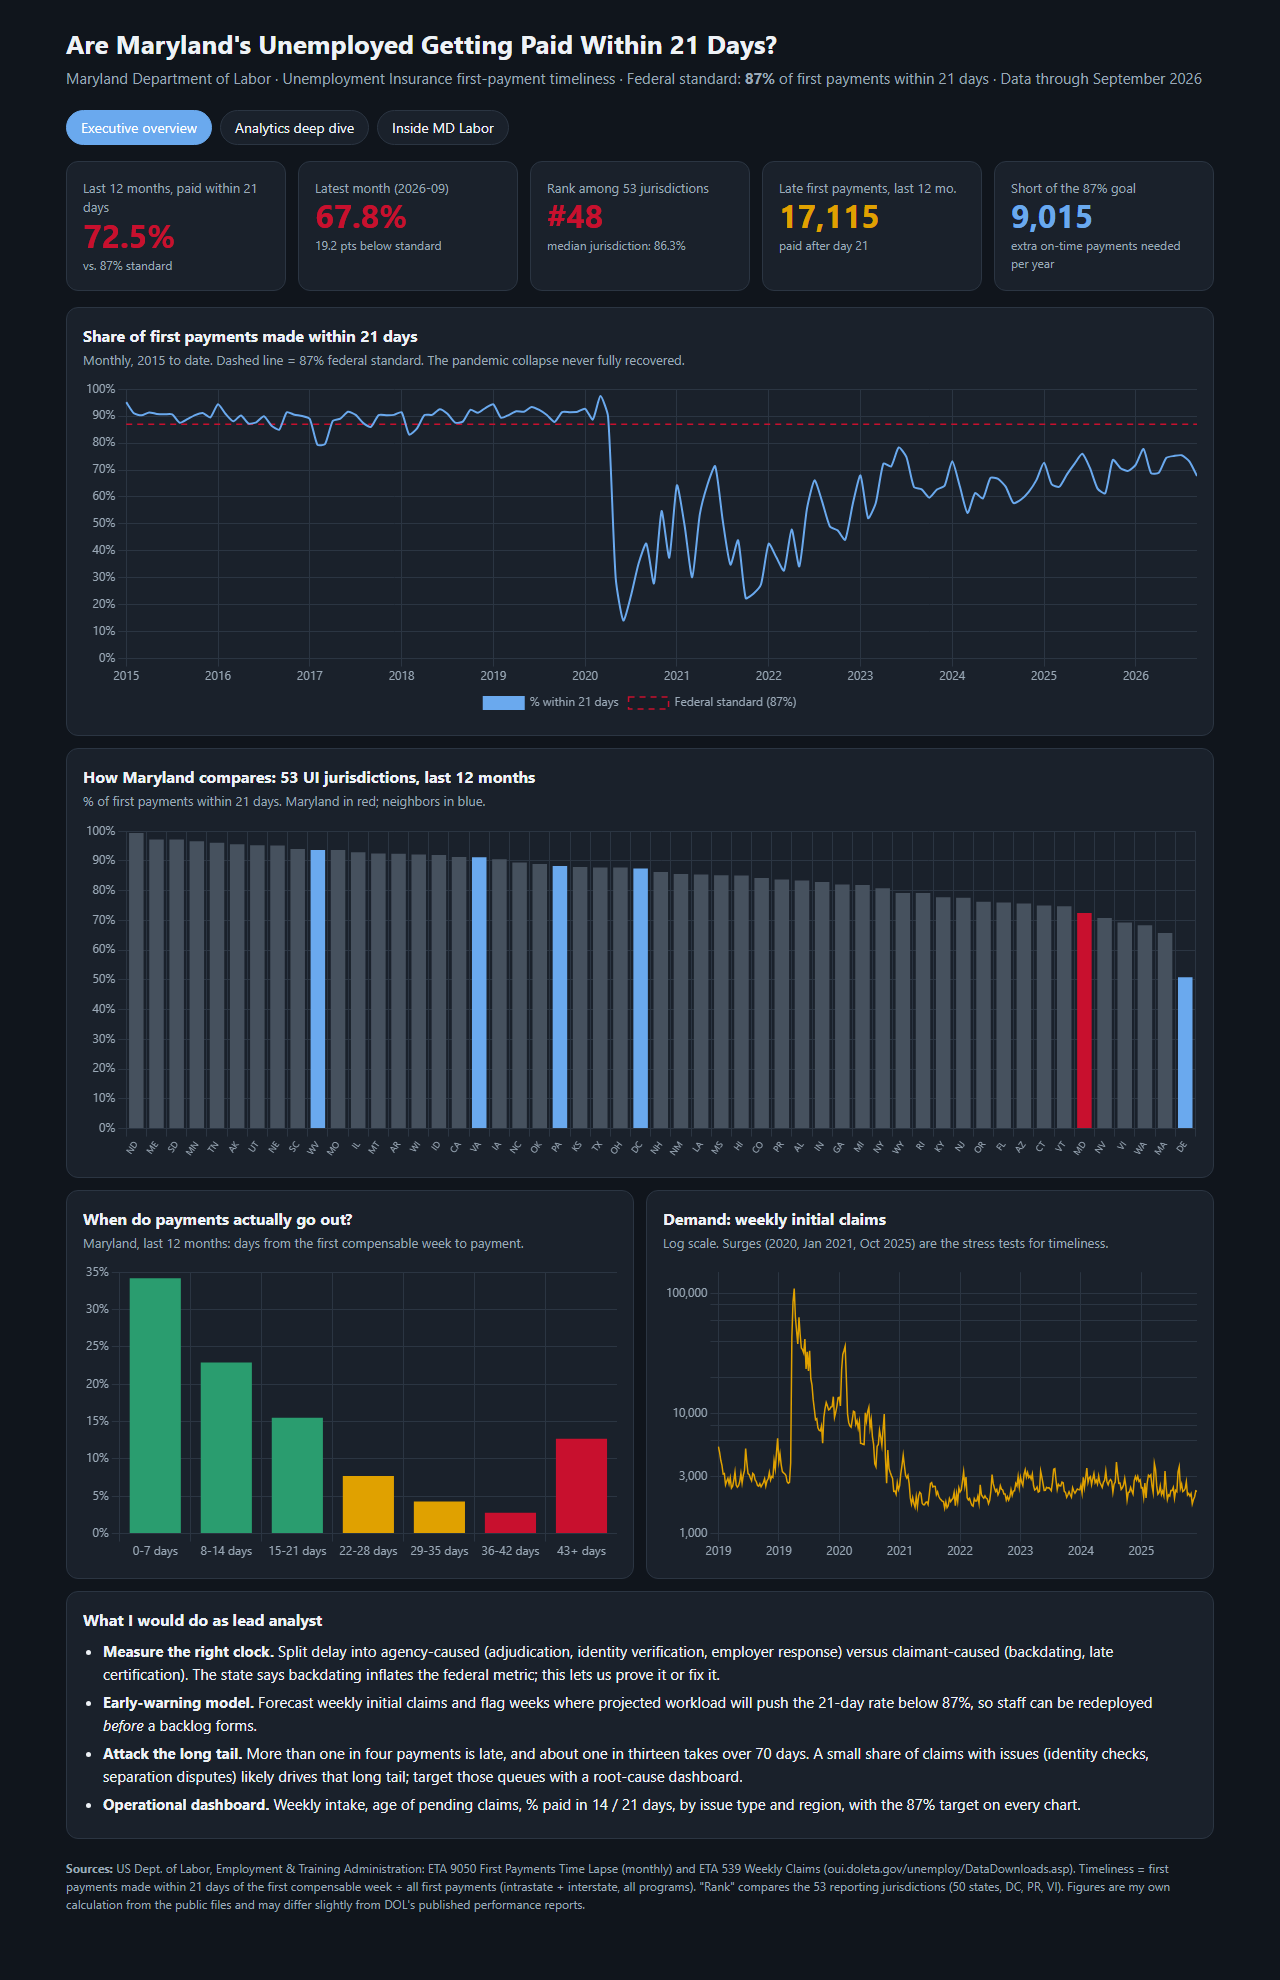

The dashboard page shown, as its layout file describes it:
{"tool":"powerbi","page":{"name":"Executive overview","canvas":[1280,720],"ordinal":0},"visuals":[{"type":"card","title":"On-time rate, last 12 months","fields":{"Values":["Timeliness.On-Time % 12M"]},"box":[20,20,240,90],"z":0},{"type":"card","title":"Latest month","fields":{"Values":["Timeliness.Latest Month On-Time %"]},"box":[275,20,240,90],"z":0},{"type":"card","title":"Rank (of 53)","fields":{"Values":["StateComparison.Maryland Rank"]},"box":[530,20,240,90],"z":0},{"type":"card","title":"Late payments, 12 months","fields":{"Values":["Timeliness.Late Payments 12M"]},"box":[785,20,240,90],"z":0},{"type":"card","title":"Short of 87% goal","fields":{"Values":["Timeliness.Payments Short Of 87%"]},"box":[1040,20,220,90],"z":0},{"type":"lineChart","title":"Share of first payments within 21 days (87% standard)","fields":{"Category":["Timeliness.month"],"Y":["Timeliness.On-Time %","Timeliness.Standard"]},"box":[20,125,620,250],"z":0},{"type":"clusteredColumnChart","title":"When payments go out (days from first compensable week)","fields":{"Category":["DelayBands.days"],"Y":["DelayBands.Share Of Payments"]},"box":[650,125,610,250],"z":0},{"type":"columnChart","title":"Last 12 months by jurisdiction (Maryland highlighted)","fields":{"Category":["StateComparison.st"],"Y":["StateComparison.State On-Time % (others)","StateComparison.State On-Time % (Maryland)"]},"box":[20,385,1240,320],"z":0}]}

Visuals, with their boxes on the page's 1280x720 design canvas (x1, y1, x2, y2). These are canvas units, not pixel positions in the 1280x1980 screenshot, which may show the page scaled, cropped or inside an application window:
"On-time rate, last 12 months" card: pyautogui.locateOnScreen(20, 20, 260, 110)
"Latest month" card: pyautogui.locateOnScreen(275, 20, 515, 110)
"Rank (of 53)" card: pyautogui.locateOnScreen(530, 20, 770, 110)
"Late payments, 12 months" card: pyautogui.locateOnScreen(785, 20, 1025, 110)
"Short of 87% goal" card: pyautogui.locateOnScreen(1040, 20, 1260, 110)
"Share of first payments within 21 days (87% standard)" lineChart: pyautogui.locateOnScreen(20, 125, 640, 375)
"When payments go out (days from first compensable week)" clusteredColumnChart: pyautogui.locateOnScreen(650, 125, 1260, 375)
"Last 12 months by jurisdiction (Maryland highlighted)" columnChart: pyautogui.locateOnScreen(20, 385, 1260, 705)
